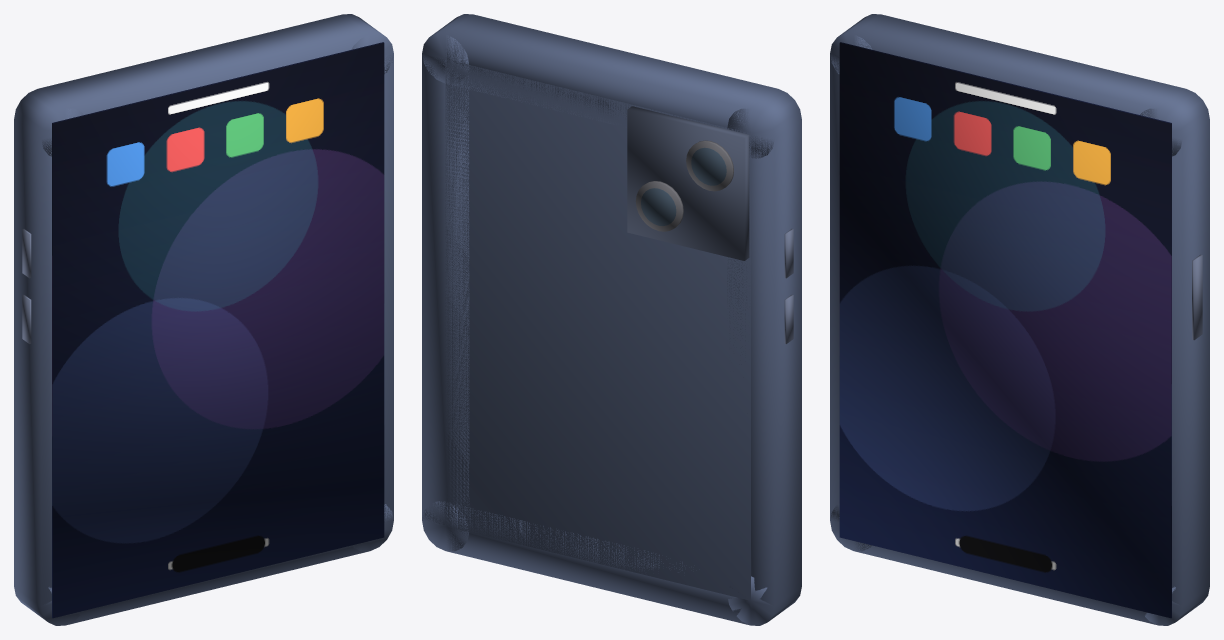
Rendered from iphone-duo-closed-night-sky.glb.
3 views of the same model, side by side, from view 1: azimuth 30°, elevation 25°; view 2: azimuth 150°, elevation 25°; view 3: azimuth 330°, elevation 25° (orthographic).
Parts seen in each view (by area): view 1: iPhoneDuo; view 2: iPhoneDuo; view 3: iPhoneDuo.
Part boxes in pixels (left/top/right/bottom): iPhoneDuo: left=14, top=14, right=393, bottom=625; iPhoneDuo: left=422, top=14, right=801, bottom=625; iPhoneDuo: left=830, top=14, right=1209, bottom=625.
Size of the model in its own units: 0.0851 by 0.1178 by 0.0146.
Materials: 6 (1 with a texture image).
